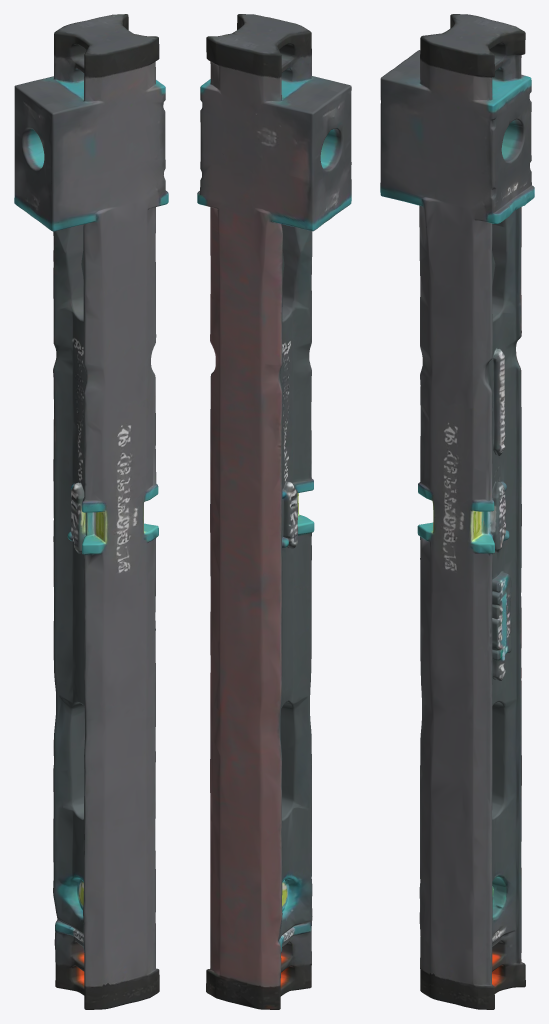
The model's file is tile-spirit-level.glb.
The picture shows the model from 3 angles, left to right: view 1: azimuth 30°, elevation 25°; view 2: azimuth 150°, elevation 25°; view 3: azimuth 330°, elevation 25°; orthographic projection.
Visible parts, largest first — view 1: tripo_node_4d641255-edd6-4d62-9938-ade3ad465e44; view 2: tripo_node_4d641255-edd6-4d62-9938-ade3ad465e44; view 3: tripo_node_4d641255-edd6-4d62-9938-ade3ad465e44.
Part boxes in pixels (left/top/right/bottom): tripo_node_4d641255-edd6-4d62-9938-ade3ad465e44: left=14, top=14, right=168, bottom=1009; tripo_node_4d641255-edd6-4d62-9938-ade3ad465e44: left=197, top=14, right=351, bottom=1009; tripo_node_4d641255-edd6-4d62-9938-ade3ad465e44: left=380, top=14, right=534, bottom=1009.
Size of the model in its own units: 0.1304 by 1 by 0.0782.
1 material, 1 textured.
